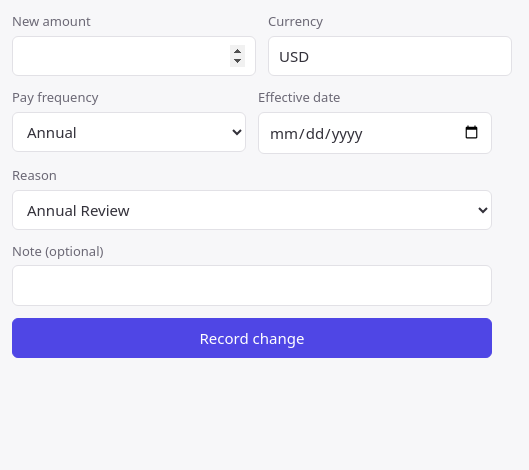
Test: RecordRaiseForm › shows an error banner when the API rejects the change (e.g. out-of-order effective date)
Type "135000" into the number field labelled "New amount" at point(134, 56), box [12,36,256,76]
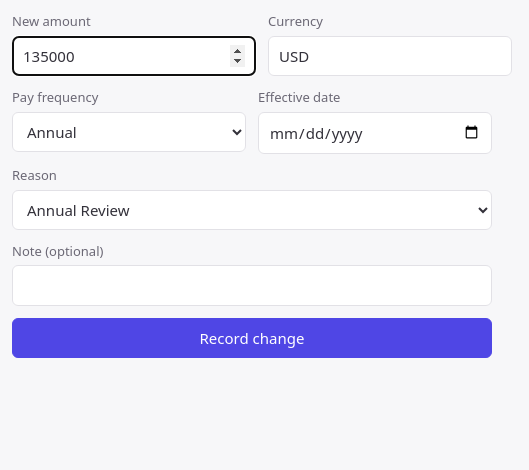
Type "2026-06-01" into the date field labelled "Effective date" at point(375, 133), box [258,112,492,154]
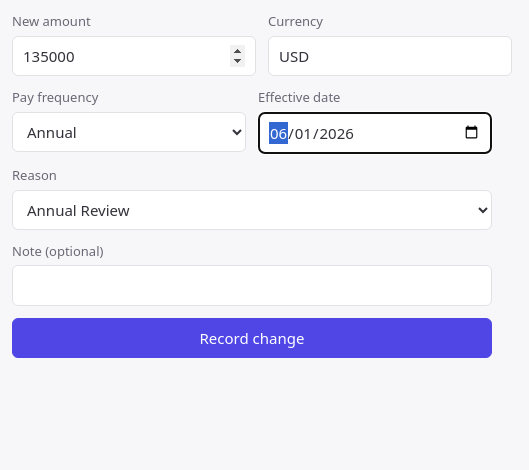
Select "Promotion" in the dropdown labelled "Reason" at point(252, 210), box [12,190,492,230]
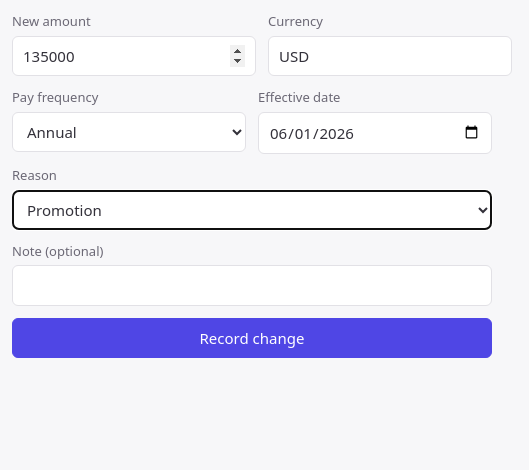
Click the button "Record change" at point(252, 338), box [12,318,492,358]
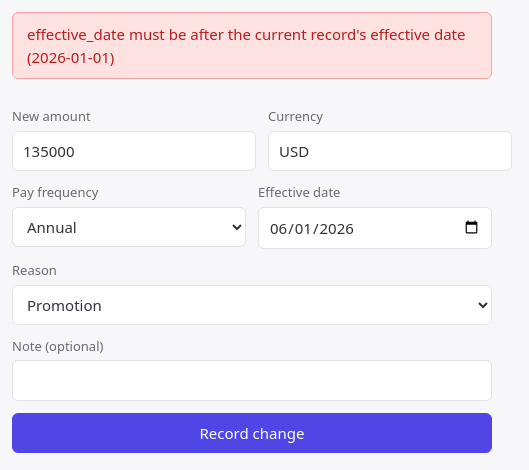
Check: the message shows "effective_date must be after", box [27,24,466,66]
